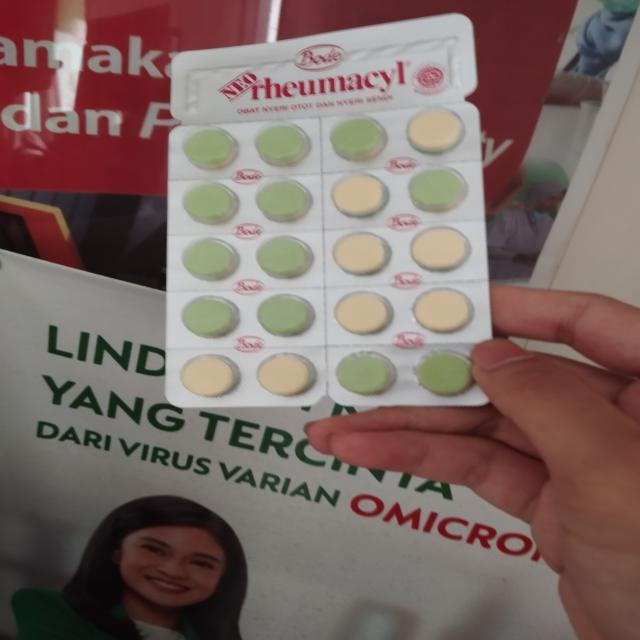B3: (164, 11, 496, 411)
